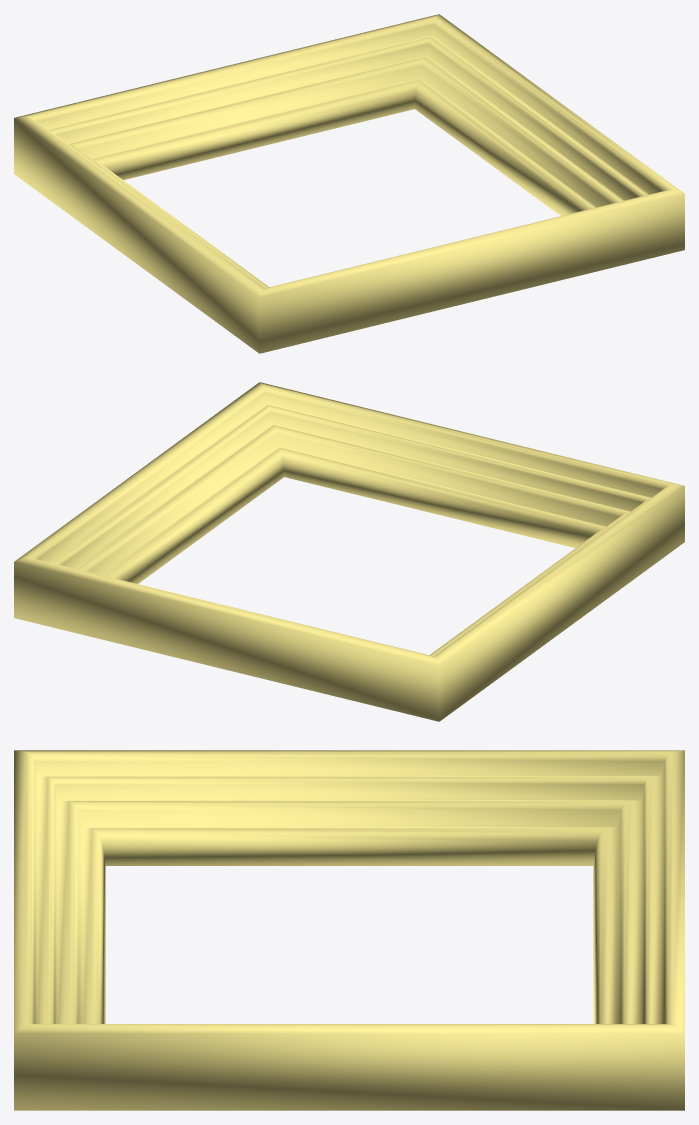
The model's file is pic_frame1.fbx.
3 views of the same model, one above another, from view 1: azimuth 30°, elevation 25°; view 2: azimuth 150°, elevation 25°; view 3: azimuth 270°, elevation 25° (orthographic). The views are drawn at different scales.
Visible parts, largest first — view 1: ベジエ円; view 2: ベジエ円; view 3: ベジエ円.
Part boxes in pixels (box(x1,y1,x2,y2)): ベジエ円: box(14, 14, 684, 353); ベジエ円: box(14, 382, 684, 721); ベジエ円: box(14, 750, 684, 1110).
Bounding box in the file's own units: 159 × 21.05 × 159.
